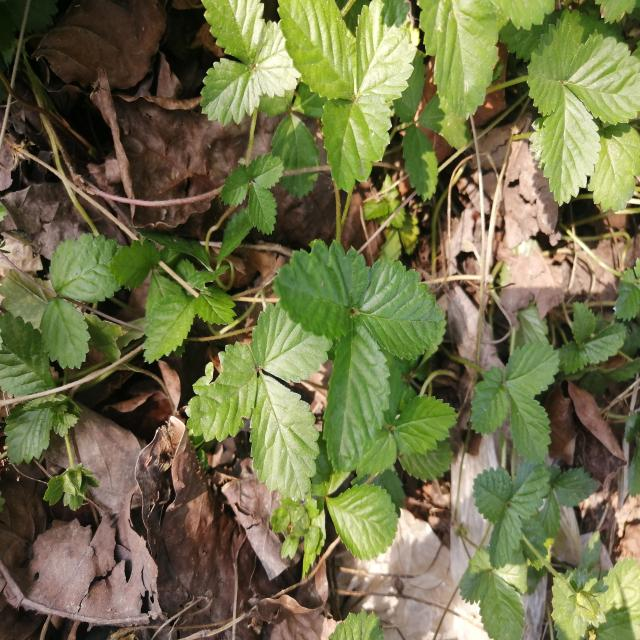Mock_strawberry: (156, 308, 350, 481)
